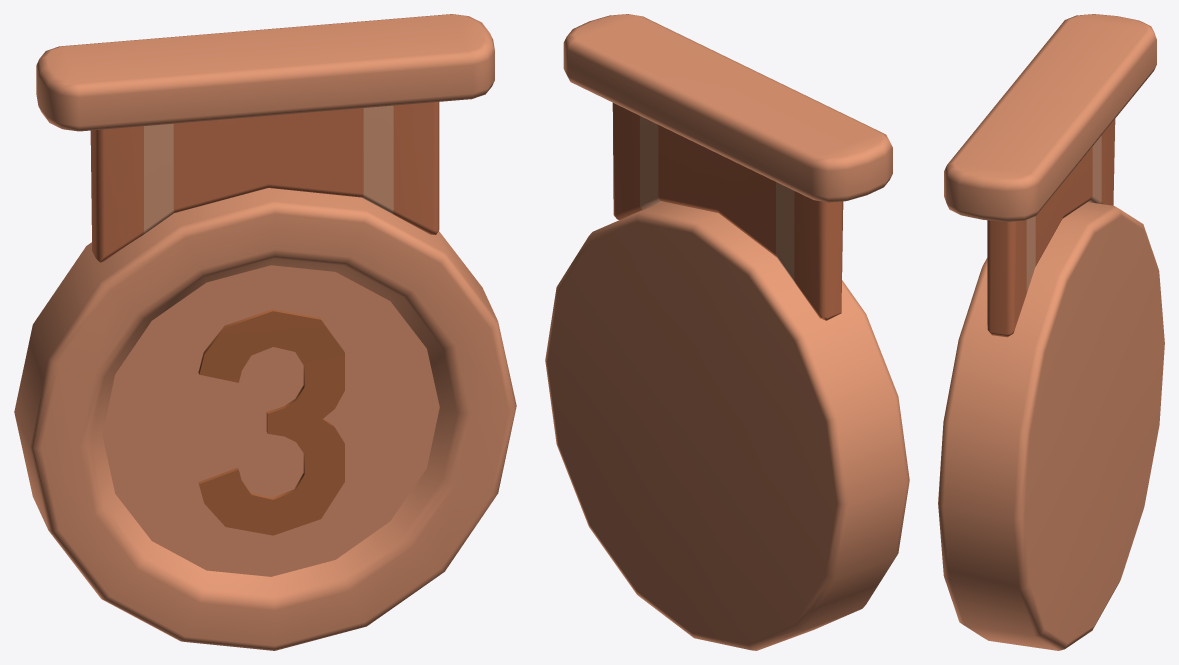
The picture shows the model from 3 angles, left to right: view 1: azimuth 30°, elevation 25°; view 2: azimuth 150°, elevation 25°; view 3: azimuth 270°, elevation 25°; orthographic projection. The views are drawn at different scales.
Parts seen in each view (by area): view 1: model_1.093; view 2: model_1.093; view 3: model_1.093.
Boxes of the visible parts, left/top/right/bottom form: model_1.093: left=14, top=14, right=516, bottom=650; model_1.093: left=545, top=14, right=909, bottom=650; model_1.093: left=938, top=14, right=1164, bottom=650.
Size of the model in its own units: 3.39 by 4.42 by 1.71.
